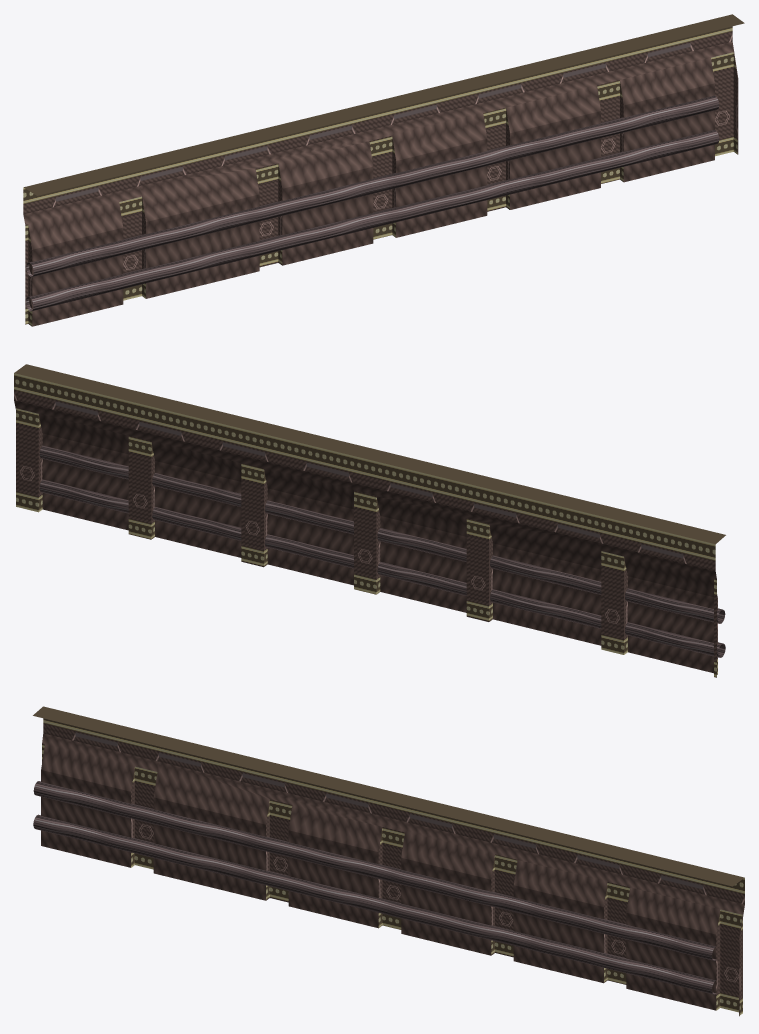
Rendered from Wall_Hall_30m.glb.
3 views of the same model, one above another, from view 1: azimuth 30°, elevation 25°; view 2: azimuth 150°, elevation 25°; view 3: azimuth 330°, elevation 25° (orthographic).
Parts seen in each view (by area): view 1: Wall.003; view 2: Wall.003; view 3: Wall.003.
Boxes of the visible parts, x1=… form: Wall.003: x1=23, y1=14, x2=744, y2=326; Wall.003: x1=14, y1=364, x2=725, y2=677; Wall.003: x1=33, y1=706, x2=744, y2=1016.
Size of the model in its own units: 30.8 by 5.5 by 0.9039.
2 materials, 2 textured.
